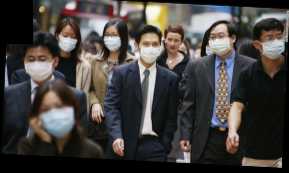with_mask: (36, 99, 74, 138), (22, 53, 54, 82), (260, 29, 285, 58), (206, 29, 233, 55), (136, 37, 160, 62), (56, 30, 78, 52), (102, 28, 121, 52)
without_mask: (164, 35, 180, 52)
